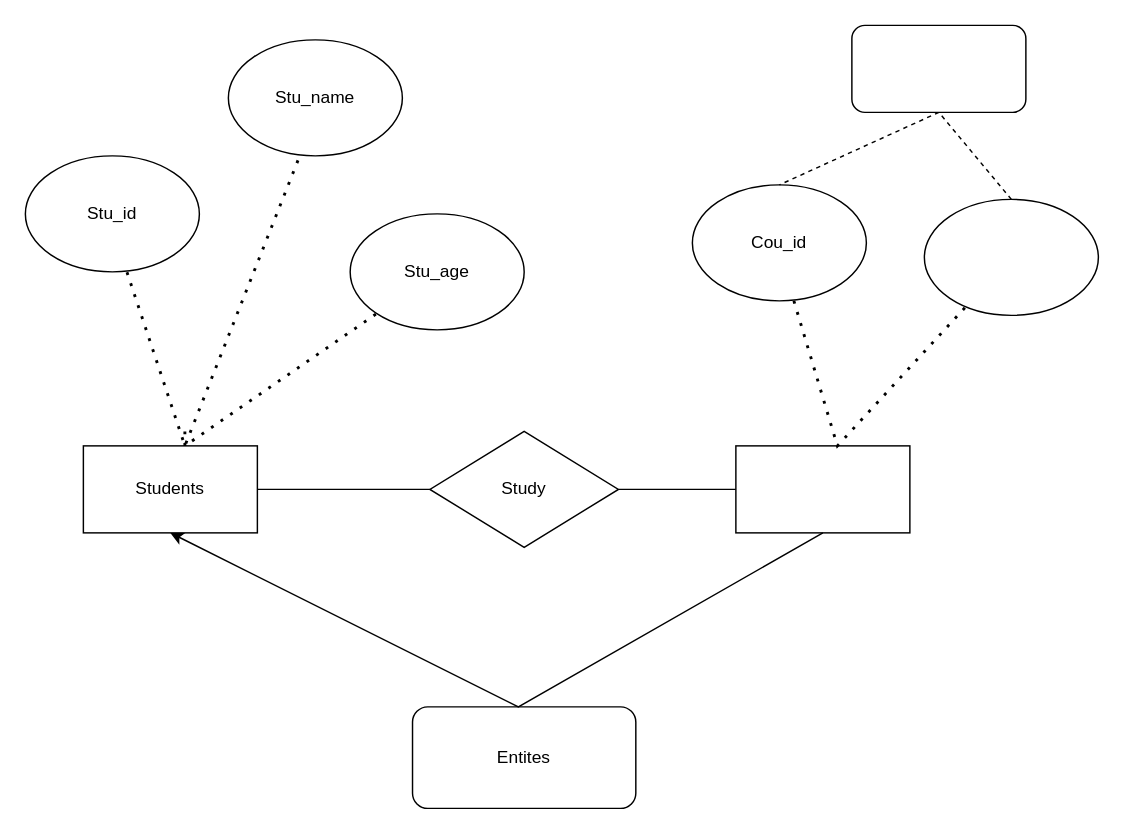
Image size: 1124x834. Some labels were removed from this diagram. The shapes that lost their labels are listed below. From the top down, each one's box as (x1, y1, x2, y2) in pixels, then its label:
(850, 24, 1026, 112): Attributes
(923, 198, 1098, 315): Cou_name
(734, 444, 910, 533): Course
